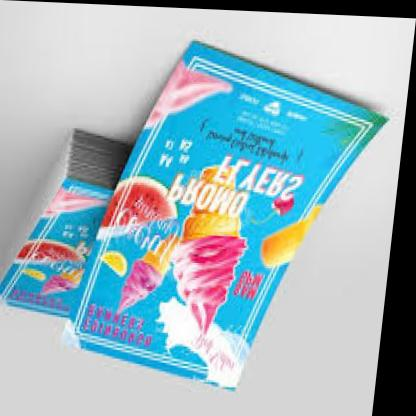Paper: (0, 34, 400, 410)
